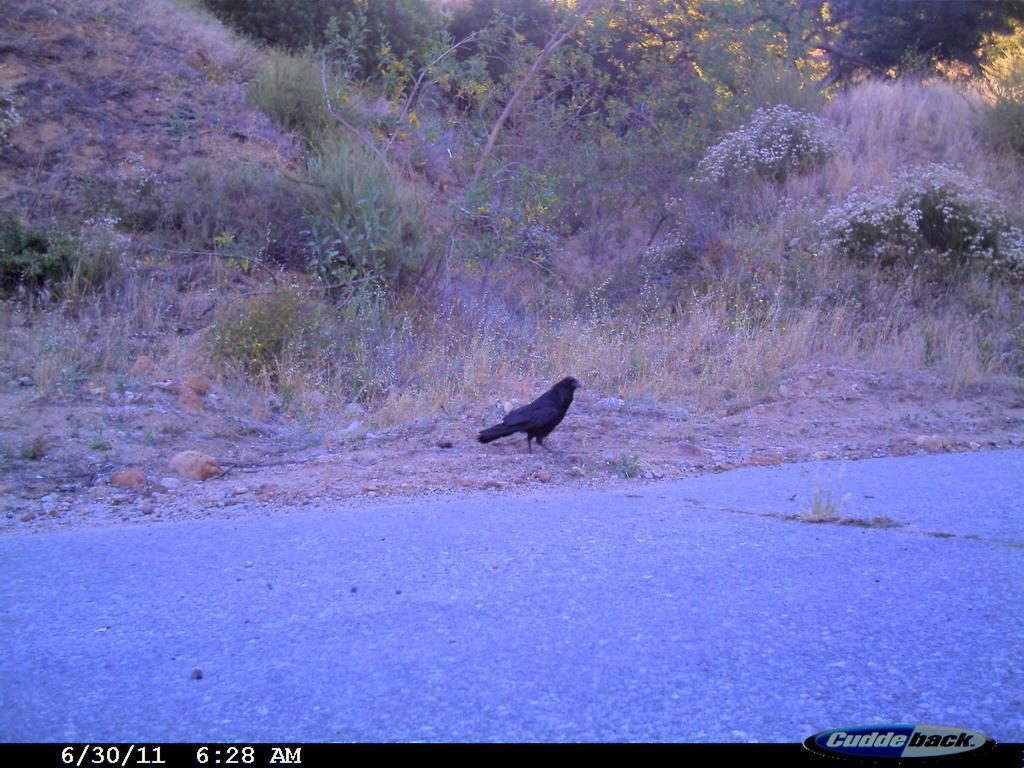bird: (477, 363, 589, 456)
